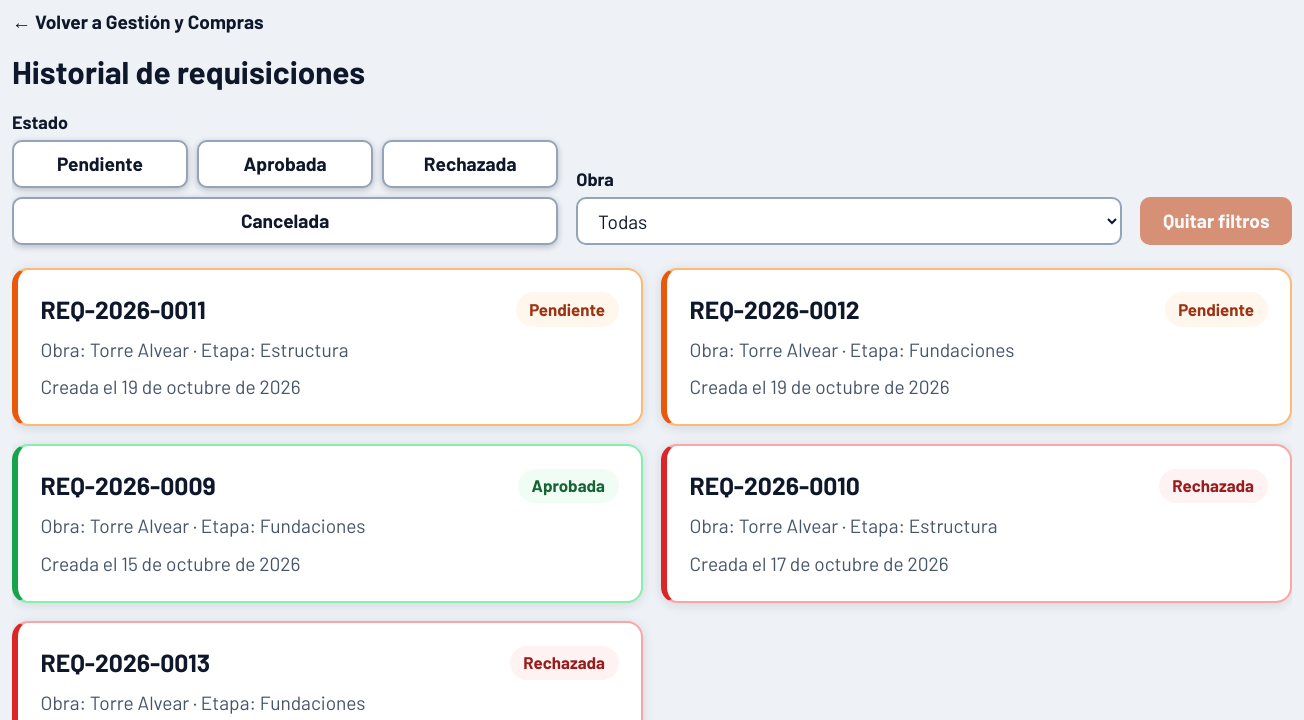
Test case: HistorialRequisicionesPage - filtros › avisa si no hay requisiciones con esos filtros
Expected: the link "REQ-2026-0011" is shown, [40,294,206,324]
Click the button "Aprobada" at (285, 164), box [197,140,373,188]
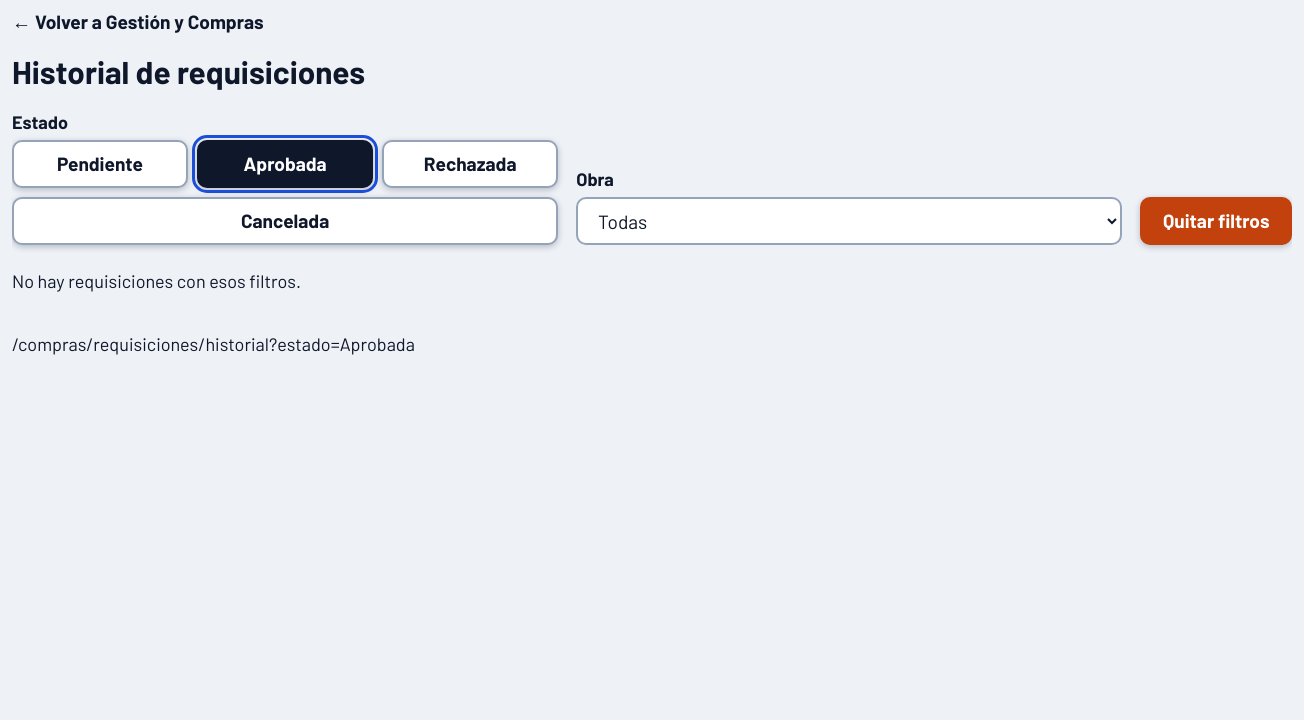
Expected: the text "No hay requisiciones con esos filtros." is shown, [12,270,301,292]
